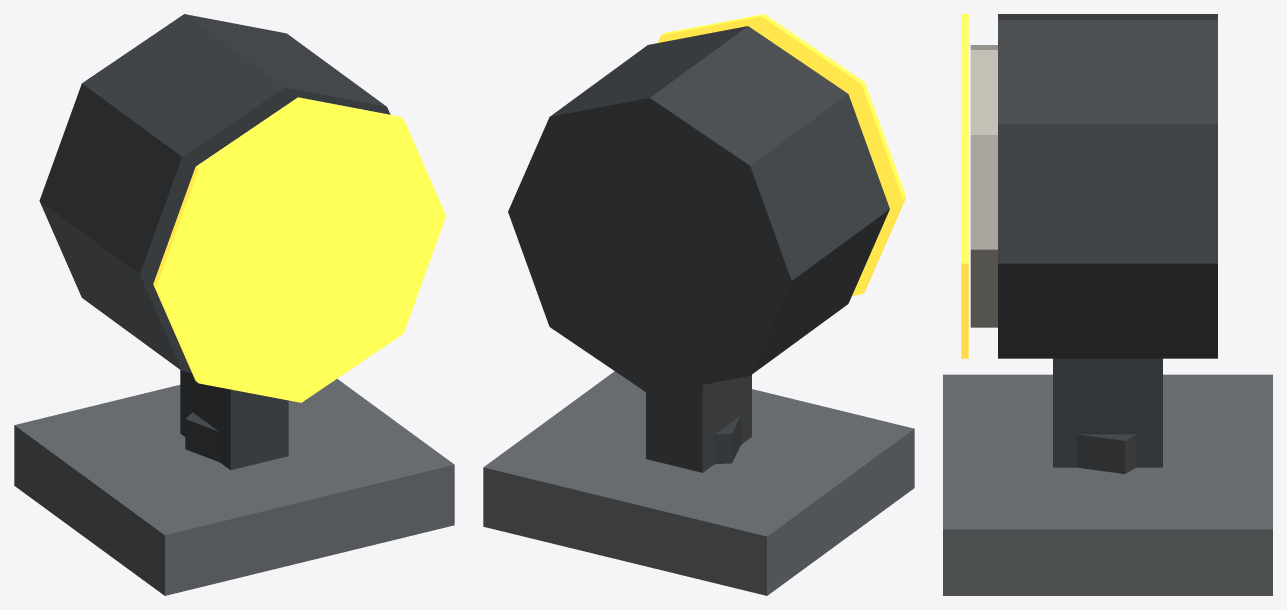
Rendered from item_spotlight.glb.
The picture shows the model from 3 angles, left to right: view 1: azimuth 30°, elevation 25°; view 2: azimuth 150°, elevation 25°; view 3: azimuth 270°, elevation 25°; orthographic projection. The views are drawn at different scales.
Visible parts, largest first — view 1: spotlight; view 2: spotlight; view 3: spotlight.
Part boxes in pixels (x1,y1,x2,y2): spotlight: [14, 14, 454, 595]; spotlight: [483, 14, 914, 595]; spotlight: [943, 14, 1272, 595].
Bounding box in the file's own units: 0.2 × 0.3 × 0.18.
